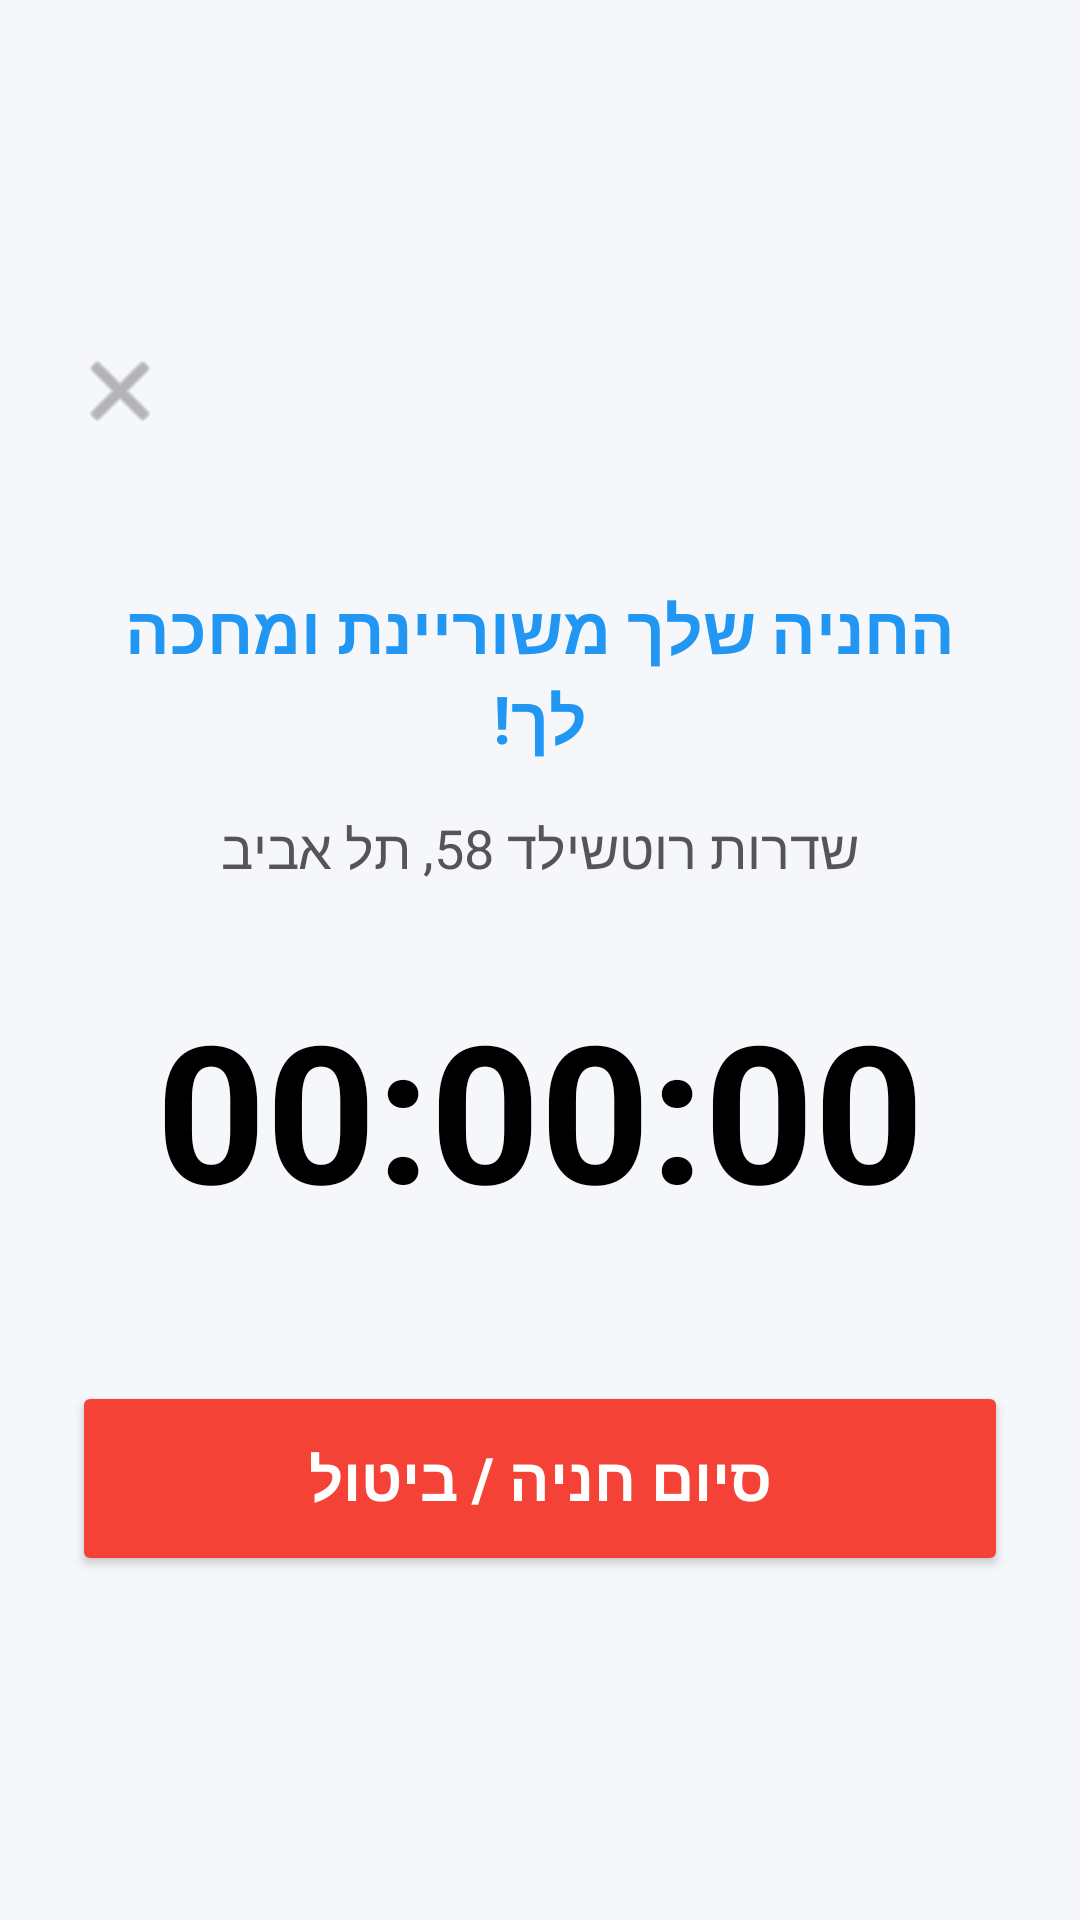

Icons on this 1080px×1920px Android screen, each with its box as (x1, y1, x2, y2):
close clear cancel: (91, 362, 149, 420)
